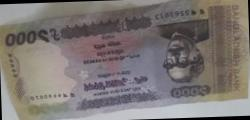1000 taka: (3, 26, 250, 119)
